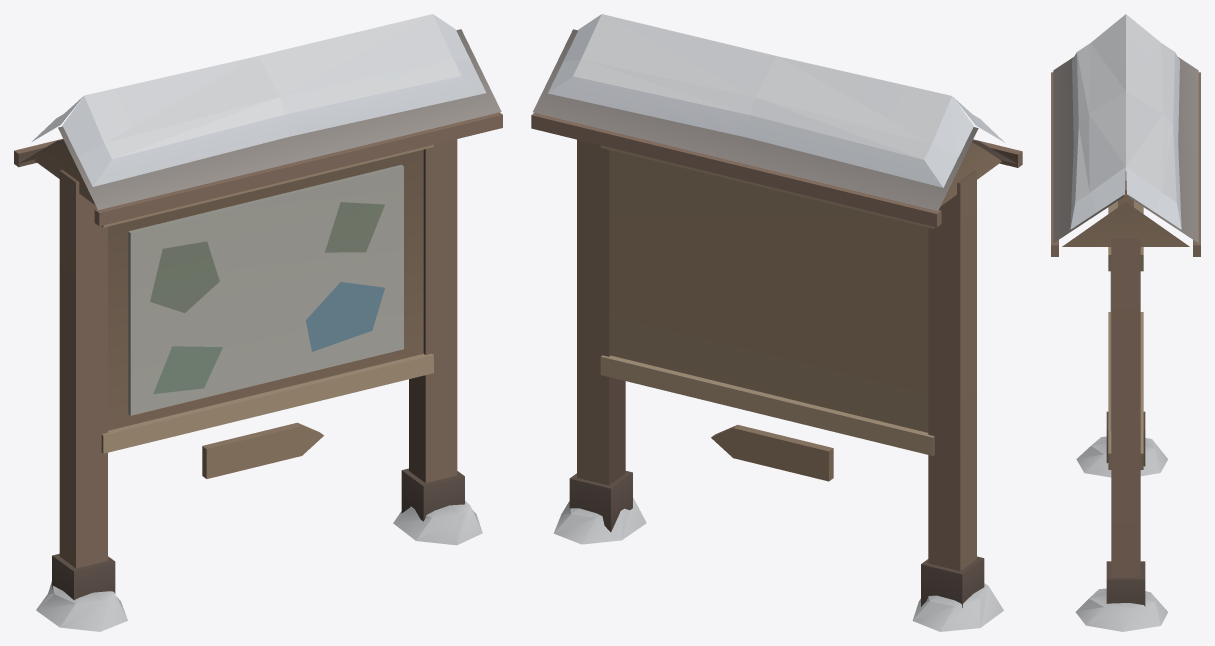
File: trailsign.lod1.glb
3 renders of one model, left to right at view 1: azimuth 30°, elevation 25°; view 2: azimuth 150°, elevation 25°; view 3: azimuth 270°, elevation 25°, orthographic. The views are drawn at different scales.
Size of the model in its own units: 2.7 by 3.08 by 0.93.
